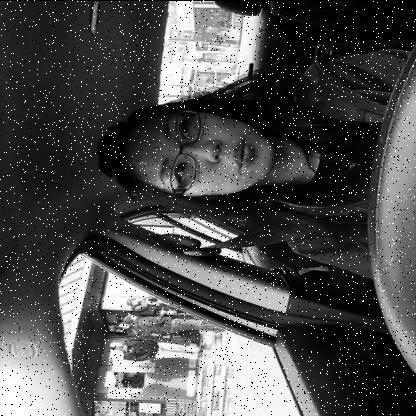seatbelt: (71, 90, 416, 258)
